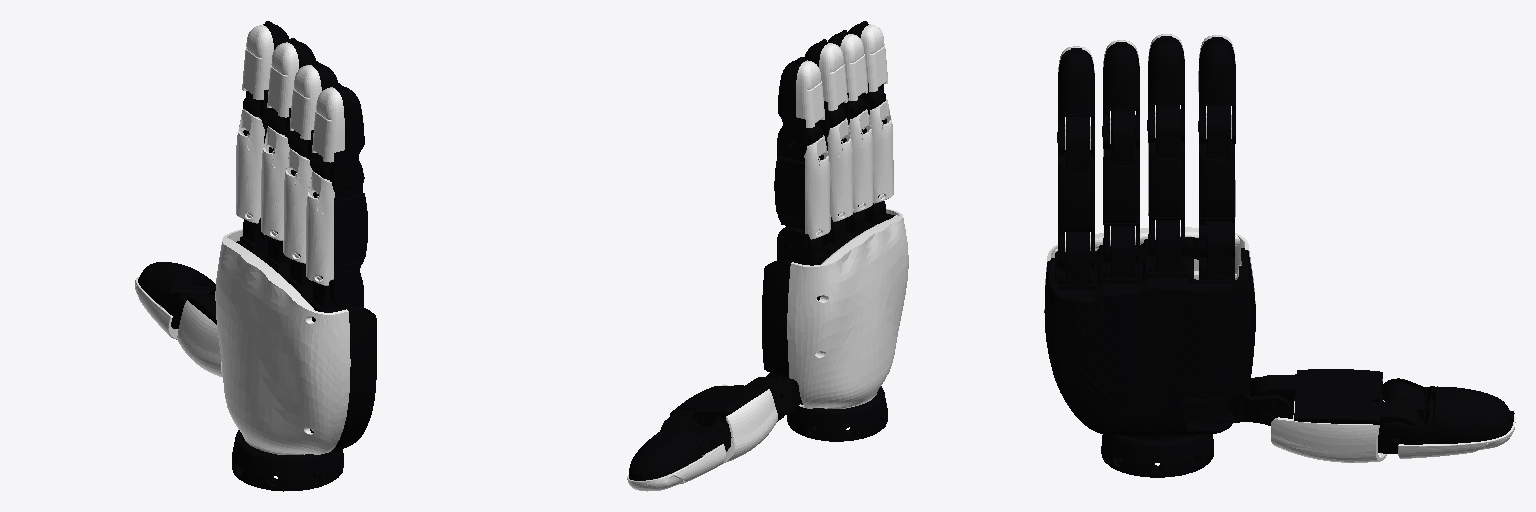
--- Facts derived from the render (not from the file) ---
The picture shows the robot from 3 angles, left to right: view 1: azimuth 30°, elevation 25°; view 2: azimuth 150°, elevation 25°; view 3: azimuth 270°, elevation 25°; orthographic projection.
Robot: xhand_right — 31 links, 30 joints (12 revolute, 18 fixed); root link base_link; default pose: every joint at zero.
Visible links, largest first — view 1: right_hand_back_link, right_hand_link, right_hand_pinky_link1, right_hand_pinkyback_link1, right_hand_index_rotaback_link1, right_hand_thumb_rota_link2, right_hand_midback_link1, right_hand_ringback_link1, right_hand_pinky_link2, right_hand_thumb_rotaback_link1, right_hand_pinkyback_link2, right_hand_index_rotaback_link2 (+6 smaller); view 2: right_hand_back_link, right_hand_link, right_hand_thumb_rota_link2, right_hand_thumb_rota_link1, right_hand_index_rota_link1, right_hand_index_rotaback_link1, right_hand_thumb_rotaback_link1, right_hand_midback_link1, right_hand_pinkyback_link1, right_hand_index_rota_link2, right_hand_ringback_link1, right_hand_index_rotaback_link2 (+6 smaller); view 3: right_hand_link, right_hand_thumb_rota_link1, right_hand_thumb_rota_link2, right_hand_ring_link1, right_hand_pinky_link1, right_hand_mid_link1, right_hand_thumb_rotaback_link1, right_hand_index_rota_link1, right_hand_ring_link2, right_hand_pinky_link2, right_hand_mid_link2, right_hand_index_rota_link2 (+4 smaller).
Link boxes in pixels (x1,y1,x2,y2): right_hand_back_link: (215,229,350,454); right_hand_link: (232,237,376,491); right_hand_pinky_link1: (313,155,367,308); right_hand_pinkyback_link1: (306,171,334,285); right_hand_index_rotaback_link1: (236,109,264,223); right_hand_thumb_rota_link2: (138,262,215,328); right_hand_midback_link1: (261,126,289,240); right_hand_ringback_link1: (283,148,312,263); right_hand_pinky_link2: (316,87,364,196); right_hand_thumb_rotaback_link1: (177,300,222,377); right_hand_pinkyback_link2: (312,87,344,162); right_hand_index_rotaback_link2: (242,25,273,99); right_hand_back_link: (787,209,908,408); right_hand_link: (762,201,894,441); right_hand_thumb_rota_link2: (629,422,730,480); right_hand_thumb_rota_link1: (660,377,784,447); right_hand_index_rota_link1: (774,123,823,229); right_hand_index_rotaback_link1: (804,135,830,239); right_hand_thumb_rotaback_link1: (722,384,777,463); right_hand_midback_link1: (827,118,853,221); right_hand_pinkyback_link1: (869,99,893,203); right_hand_index_rota_link2: (778,60,820,158); right_hand_ringback_link1: (849,109,873,212); right_hand_index_rotaback_link2: (796,60,824,127); right_hand_link: (1044,220,1255,477); right_hand_thumb_rota_link1: (1251,369,1423,453); right_hand_thumb_rota_link2: (1378,378,1512,451); right_hand_ring_link1: (1103,111,1139,263); right_hand_pinky_link1: (1058,117,1094,269); right_hand_mid_link1: (1148,105,1184,256); right_hand_thumb_rotaback_link1: (1271,379,1386,462); right_hand_index_rota_link1: (1199,106,1234,224); right_hand_ring_link2: (1102,43,1139,149); right_hand_pinky_link2: (1057,50,1094,155); right_hand_mid_link2: (1147,37,1184,142); right_hand_index_rota_link2: (1198,38,1235,143).
Size in the robot's own frame: 0.0641 by 0.2091 by 0.2078 metres.
30 mesh visuals loaded from 30 distinct referenced files (30 binary STL).

The robot description file, URDF, robot "xhand_right":
<?xml version="1.0" encoding="utf-8"?>
<!-- This URDF was automatically created by SolidWorks to URDF Exporter! Originally created by Stephen Brawner ([email redacted]) 
     Commit Version: 1.6.0-4-g7f85cfe  Build Version: 1.6.7995.38578
     For more information, please see http://wiki.ros.org/sw_urdf_exporter -->
<robot
  name="xhand_right">

  <link name="base_link"/>
  <joint name="base_joint" type="fixed">
    <parent link="base_link"/>
    <child link="right_hand_link"/>
    <origin xyz="0 0 0" rpy="3.14 0 1.57"/>
  </joint>
  <link
    name="right_hand_link">
    <inertial>
      <origin
        xyz="-0.00366836214548078 0.0100351220466308 -0.0582695185384578"
        rpy="0 0 0" />
      <mass
        value="0.53903004" />
      <inertia
        ixx="0.00046462"
        ixy="0.00000004"
        ixz="-0.00005128"
        iyy="0.00064214"
        iyz="0.00000217"
        izz="0.00027541" />
    </inertial>
    <visual>
      <origin
        xyz="0 0 0"
        rpy="0 0 0" />
      <geometry>
        <mesh
          filename="meshes/right_hand_link.STL" />
      </geometry>
      <material
        name="RAL_9005_Jet_Black">
        <color
          rgba="0.055 0.055 0.063 1.0" />
      </material>
    </visual>
    <collision>
      <origin
        xyz="0 0 0"
        rpy="0 0 0" />
      <geometry>
        <mesh
          filename="meshes/right_hand_link.STL" />
      </geometry>
    </collision>
  </link>
  <link
    name="right_hand_ee_link">
    <inertial>
      <origin
        xyz="2.48510213245214E-19 -8.08284973285247E-18 0"
        rpy="0 0 0" />
      <mass
        value="0.00000565" />
      <inertia
        ixx="0.00000000001"
        ixy="0.00000000001"
        ixz="0.00000000001"
        iyy="0.00000000001"
        iyz="0.00000000001"
        izz="0.00000000001" />
    </inertial>
    <visual>
      <origin
        xyz="0 0 0"
        rpy="0 0 0" />
      <geometry>
        <mesh
          filename="meshes/right_hand_ee_link.STL" />
      </geometry>
      <material
        name="RAL_9005_Jet_Black">
        <color
          rgba="0.055 0.055 0.063 1.0" />
      </material>
    </visual>
    <collision>
      <origin
        xyz="0 0 0"
        rpy="0 0 0" />
      <geometry>
        <mesh
          filename="meshes/right_hand_ee_link.STL" />
      </geometry>
    </collision>
  </link>
  <joint
    name="right_hand_ee_joint"
    type="fixed">
    <origin
      xyz="0 0 -0.065"
      rpy="0 0 0" />
    <parent
      link="right_hand_link" />
    <child
      link="right_hand_ee_link" />
    <axis
      xyz="0 0 0" />
    <dynamics
      damping="0"
      friction="0" />
  </joint>
  <link
    name="right_hand_back_link">
    <inertial>
      <origin
        xyz="-0.00149243508011096 -0.0140081556490721 0.000647100828228067"
        rpy="0 0 0" />
      <mass
        value="0.00000020" />
      <inertia
        ixx="0.00000000001"
        ixy="0.00000000001"
        ixz="0.00000000001"
        iyy="0.00000000001"
        iyz="0.00000000001"
        izz="0.00000000001" />
    </inertial>
    <visual>
      <origin
        xyz="0 0 0"
        rpy="0 0 0" />
      <geometry>
        <mesh
          filename="meshes/right_hand_back_link.STL" />
      </geometry>
      <material
        name="RAL_9003_Signal_White">
        <color
          rgba="0.941 0.941 0.941 1.0" />
      </material>
    </visual>
    <collision>
      <origin
        xyz="0 0 0"
        rpy="0 0 0" />
      <geometry>
        <mesh
          filename="meshes/right_hand_back_link.STL" />
      </geometry>
    </collision>
  </link>
  <joint
    name="right_hand_back_joint"
    type="fixed">
    <origin
      xyz="0 0 -0.065"
      rpy="0 0 0" />
    <parent
      link="right_hand_link" />
    <child
      link="right_hand_back_link" />
    <axis
      xyz="0 0 0" />
    <dynamics
      damping="0"
      friction="0" />
  </joint>
  <link
    name="right_hand_thumb_bend_link">
    <inertial>
      <origin
        xyz="0.0144358799903648 -0.00116534489100676 -5.40665183231849E-05"
        rpy="0 0 0" />
      <mass
        value="0.01174632" />
      <inertia
        ixx="0.00000062"
        ixy="-0.00000004"
        ixz="-0.00000007"
        iyy="0.0000016"
        iyz="0.00000000001"
        izz="0.00000162" />
    </inertial>
    <visual>
      <origin
        xyz="0 0 0"
        rpy="0 0 0" />
      <geometry>
        <mesh
          filename="meshes/right_hand_thumb_bend_link.STL" />
      </geometry>
      <material
        name="RAL_9005_Jet_Black">
        <color
          rgba="0.055 0.055 0.063 1.0" />
      </material>
    </visual>
    <collision>
      <origin
        xyz="0 0 0"
        rpy="0 0 0" />
      <geometry>
        <mesh
          filename="meshes/right_hand_thumb_bend_link.STL" />
      </geometry>
    </collision>
  </link>
  <joint
    name="right_hand_thumb_bend_joint"
    type="revolute">
    <origin
      xyz="0.0228 0.0095 -0.0305"
      rpy="0 0 0" />
    <parent
      link="right_hand_link" />
    <child
      link="right_hand_thumb_bend_link" />
    <axis
      xyz="0 0 1" />
    <limit
      lower="0"
      upper="1.832"
      effort="1.1"
      velocity="8.63" />
    <dynamics
      damping="0"
      friction="0" />
  </joint>
  <link
    name="right_hand_thumb_rota_link1">
    <inertial>
      <origin
        xyz="0.0287681482733488 -0.00036176529547633 -0.00133929681686046"
        rpy="0 0 0" />
      <mass
        value="0.13266642" />
      <inertia
        ixx="0.00001699"
        ixy="-0.00000791"
        ixz="-0.00000182"
        iyy="0.00003679"
        iyz="-0.00000196"
        izz="0.00004374" />
    </inertial>
    <visual>
      <origin
        xyz="0 0 0"
        rpy="0 0 0" />
      <geometry>
        <mesh
          filename="meshes/right_hand_thumb_rota_link1.STL" />
      </geometry>
      <material
        name="RAL_9005_Jet_Black">
        <color
          rgba="0.055 0.055 0.063 1.0" />
      </material>
    </visual>
    <collision>
      <origin
        xyz="0 0 0"
        rpy="0 0 0" />
      <geometry>
        <mesh
          filename="meshes/right_hand_thumb_rota_link1.STL" />
      </geometry>
    </collision>
  </link>
  <joint
    name="right_hand_thumb_rota_joint1"
    type="revolute">
    <origin
      xyz="0.028599 0.0083177 0.00178"
      rpy="0.2618 0 0.0407" />
    <parent
      link="right_hand_thumb_bend_link" />
    <child
      link="right_hand_thumb_rota_link1" />
    <axis
      xyz="0 1 0" />
    <limit
      lower="-0.698"
      upper="1.745"
      effort="1.1"
      velocity="8.63" />
    <dynamics
      damping="0"
      friction="0" />
  </joint>
  <link
    name="right_hand_thumb_rotaback_link1">
    <inertial>
      <origin
        xyz="-0.0296289408411864 0.0014334239435258 0.00759117850867843"
        rpy="0 0 0" />
      <mass
        value="0.00000006" />
      <inertia
        ixx="0.00000000001"
        ixy="0.00000000001"
        ixz="0.00000000001"
        iyy="0.00000000001"
        iyz="0.00000000001"
        izz="0.00000000001" />
    </inertial>
    <visual>
      <origin
        xyz="0 0 0"
        rpy="0 0 0" />
      <geometry>
        <mesh
          filename="meshes/right_hand_thumb_rotaback_link1.STL" />
      </geometry>
      <material
        name="RAL_9003_Signal_White">
        <color
          rgba="0.941 0.941 0.941 1.0" />
      </material>
    </visual>
    <collision>
      <origin
        xyz="0 0 0"
        rpy="0 0 0" />
      <geometry>
        <mesh
          filename="meshes/right_hand_thumb_rotaback_link1.STL" />
      </geometry>
    </collision>
  </link>
  <joint
    name="right_hand_thumb_rotaback_joint1"
    type="fixed">
    <origin
      xyz="0.0553000000000007 0 0"
      rpy="0 0 0" />
    <parent
      link="right_hand_thumb_rota_link1" />
    <child
      link="right_hand_thumb_rotaback_link1" />
    <axis
      xyz="0 0 0" />
    <dynamics
      damping="0"
      friction="0" />
  </joint>
  <link
    name="right_hand_thumb_rota_link2">
    <inertial>
      <origin
        xyz="0.0225340009927979 -0.000881600697645881 -0.000614548321208525"
        rpy="0 0 0" />
      <mass
        value="0.04336091" />
      <inertia
        ixx="0.00000388"
        ixy="0.00000000001"
        ixz="0.00000015"
        iyy="0.00000902"
        iyz="-0.00000042"
        izz="0.00001046" />
    </inertial>
    <visual>
      <origin
        xyz="0 0 0"
        rpy="0 0 0" />
      <geometry>
        <mesh
          filename="meshes/right_hand_thumb_rota_link2.STL" />
      </geometry>
      <material
        name="RAL_9005_Jet_Black">
        <color
          rgba="0.055 0.055 0.063 1.0" />
      </material>
    </visual>
    <collision>
      <origin
        xyz="0 0 0"
        rpy="0 0 0" />
      <geometry>
        <mesh
          filename="meshes/right_hand_thumb_rota_link2.STL" />
      </geometry>
    </collision>
  </link>
  <joint
    name="right_hand_thumb_rota_joint2"
    type="revolute">
    <origin
      xyz="0.0553 0 0"
      rpy="0 0 0" />
    <parent
      link="right_hand_thumb_rota_link1" />
    <child
      link="right_hand_thumb_rota_link2" />
    <axis
      xyz="0 1 0" />
    <limit
      lower="0"
      upper="1.745"
      effort="0.4"
      velocity="14.38" />
    <dynamics
      damping="0"
      friction="0" />
  </joint>
  <link
    name="right_hand_thumb_rotaback_link2">
    <inertial>
      <origin
        xyz="-0.0258393463672562 -0.000532639688528967 0.00924631171368789"
        rpy="0 0 0" />
      <mass
        value="0.00000004" />
      <inertia
        ixx="0.00000000001"
        ixy="0.00000000001"
        ixz="0.00000000001"
        iyy="0.00000000001"
        iyz="0.00000000001"
        izz="0.00000000001" />
    </inertial>
    <visual>
      <origin
        xyz="0 0 0"
        rpy="0 0 0" />
      <geometry>
        <mesh
          filename="meshes/right_hand_thumb_rotaback_link2.STL" />
      </geometry>
      <material
        name="RAL_9003_Signal_White">
        <color
          rgba="0.941 0.941 0.941 1.0" />
      </material>
    </visual>
    <collision>
      <origin
        xyz="0 0 0"
        rpy="0 0 0" />
      <geometry>
        <mesh
          filename="meshes/right_hand_thumb_rotaback_link2.STL" />
      </geometry>
    </collision>
  </link>
  <joint
    name="right_hand_thumb_rotaback_joint2"
    type="fixed">
    <origin
      xyz="0.0502276499414862 0 0"
      rpy="0 0 0" />
    <parent
      link="right_hand_thumb_rota_link2" />
    <child
      link="right_hand_thumb_rotaback_link2" />
    <axis
      xyz="0 0 0" />
    <dynamics
      damping="0"
      friction="0" />
  </joint>
  <link
    name="right_hand_thumb_rota_tip">
    <inertial>
      <origin
        xyz="8.32667268468867E-17 -8.67361737988404E-19 -5.55111512312578E-17"
        rpy="0 0 0" />
      <mass
        value="0.00000565" />
      <inertia
        ixx="0.00000000001"
        ixy="0.00000000001"
        ixz="0.00000000001"
        iyy="0.00000000001"
        iyz="0.00000000001"
        izz="0.00000000001" />
    </inertial>
    <visual>
      <origin
        xyz="0 0 0"
        rpy="0 0 0" />
      <geometry>
        <mesh
          filename="meshes/right_hand_thumb_rota_tip.STL" />
      </geometry>
      <material
        name="RAL_9005_Jet_Black">
        <color
          rgba="0.055 0.055 0.063 1.0" />
      </material>
    </visual>
    <collision>
      <origin
        xyz="0 0 0"
        rpy="0 0 0" />
      <geometry>
        <mesh
          filename="meshes/right_hand_thumb_rota_tip.STL" />
      </geometry>
    </collision>
  </link>
  <joint
    name="right_hand_thumb_rota_joint3"
    type="fixed">
    <origin
      xyz="0.0502276499414862 0 0"
      rpy="0 0 0" />
    <parent
      link="right_hand_thumb_rota_link2" />
    <child
      link="right_hand_thumb_rota_tip" />
    <axis
      xyz="0 0 0" />
    <dynamics
      damping="0"
      friction="0" />
  </joint>
  <link
    name="right_hand_index_bend_link">
    <inertial>
      <origin
        xyz="0.000118997558760787 -0.000715851164577269 -0.0111903014853532"
        rpy="0 0 0" />
      <mass
        value="0.06910833" />
      <inertia
        ixx="0.0000174"
        ixy="0.00000001"
        ixz="0.00000014"
        iyy="0.00001677"
        iyz="-0.00000012"
        izz="0.00000345" />
    </inertial>
    <visual>
      <origin
        xyz="0 0 0"
        rpy="0 0 0" />
      <geometry>
        <mesh
          filename="meshes/right_hand_index_bend_link.STL" />
      </geometry>
      <material
        name="RAL_9005_Jet_Black">
        <color
          rgba="0.055 0.055 0.063 1.0" />
      </material>
    </visual>
    <collision>
      <origin
        xyz="0 0 0"
        rpy="0 0 0" />
      <geometry>
        <mesh
          filename="meshes/right_hand_index_bend_link.STL" />
      </geometry>
    </collision>
  </link>
  <joint
    name="right_hand_index_bend_joint"
    type="revolute">
    <origin
      xyz="0.0265 0.0065 -0.0899"
      rpy="0 0 0" />
    <parent
      link="right_hand_link" />
    <child
      link="right_hand_index_bend_link" />
    <axis
      xyz="0 -1 0" />
    <limit
      lower="-0.174"
      upper="0.174"
      effort="0.4"
      velocity="14.38" />
    <dynamics
      damping="0"
      friction="0" />
  </joint>
  <link
    name="right_hand_index_rota_link1">
    <inertial>
      <origin
        xyz="0.000133008106573459 0.000632930512954057 -0.0355868719939061"
        rpy="0 0 0" />
      <mass
        value="0.06298297" />
      <inertia
        ixx="0.00001738"
        ixy="0.00000000001"
        ixz="0.00000028"
        iyy="0.00001686"
        iyz="0.00000019"
        izz="0.0000032" />
    </inertial>
    <visual>
      <origin
        xyz="0 0 0"
        rpy="0 0 0" />
      <geometry>
        <mesh
          filename="meshes/right_hand_index_rota_link1.STL" />
      </geometry>
      <material
        name="RAL_9005_Jet_Black">
        <color
          rgba="0.055 0.055 0.063 1" />
      </material>
    </visual>
    <collision>
      <origin
        xyz="0 0 0"
        rpy="0 0 0" />
      <geometry>
        <mesh
          filename="meshes/right_hand_index_rota_link1.STL" />
      </geometry>
    </collision>
  </link>
  <joint
    name="right_hand_index_joint1"
    type="revolute">
    <origin
      xyz="0 0 -0.0178"
      rpy="0 0 0" />
    <parent
      link="right_hand_index_bend_link" />
    <child
      link="right_hand_index_rota_link1" />
    <axis
      xyz="1 0 0" />
    <limit
      lower="0"
      upper="1.919"
      effort="1.1"
      velocity="8.63" />
    <dynamics
      damping="0"
      friction="0" />
  </joint>
  <link
    name="right_hand_index_rotaback_link1">
    <inertial>
      <origin
        xyz="-0.000148035114615745 -0.0115948040516035 0.0241234077593065"
        rpy="0 0 0" />
      <mass
        value="0.00000002" />
      <inertia
        ixx="0.00000000001"
        ixy="0.00000000001"
        ixz="0.00000000001"
        iyy="0.00000000001"
        iyz="0.00000000001"
        izz="0.00000000001" />
    </inertial>
    <visual>
      <origin
        xyz="0 0 0"
        rpy="0 0 0" />
      <geometry>
        <mesh
          filename="meshes/right_hand_index_rotaback_link1.STL" />
      </geometry>
      <material
        name="RAL_9003_Signal_White">
        <color
          rgba="0.941 0.941 0.941 1" />
      </material>
    </visual>
    <collision>
      <origin
        xyz="0 0 0"
        rpy="0 0 0" />
      <geometry>
        <mesh
          filename="meshes/right_hand_index_rotaback_link1.STL" />
      </geometry>
    </collision>
  </link>
  <joint
    name="right_hand_index_rotaback_joint1"
    type="fixed">
    <origin
      xyz="0 0 -0.0557999999999955"
      rpy="0 0 0" />
    <parent
      link="right_hand_index_rota_link1" />
    <child
      link="right_hand_index_rotaback_link1" />
    <axis
      xyz="0 0 0" />
    <dynamics
      damping="0"
      friction="0" />
  </joint>
  <link
    name="right_hand_index_rota_link2">
    <inertial>
      <origin
        xyz="-0.000248361661985549 0.00119905190206764 -0.0213789854478675"
        rpy="0 0 0" />
      <mass
        value="0.01588724" />
      <inertia
        ixx="0.00000277"
        ixy="0.00000000001"
        ixz="0.00000012"
        iyy="0.00000283"
        iyz="0.00000007"
        izz="0.00000085" />
    </inertial>
    <visual>
      <origin
        xyz="0 0 0"
        rpy="0 0 0" />
      <geometry>
        <mesh
          filename="meshes/right_hand_index_rota_link2.STL" />
      </geometry>
      <material
        name="RAL_9005_Jet_Black">
        <color
          rgba="0.055 0.055 0.063 1" />
      </material>
    </visual>
    <collision>
      <origin
        xyz="0 0 0"
        rpy="0 0 0" />
      <geometry>
        <mesh
          filename="meshes/right_hand_index_rota_link2.STL" />
      </geometry>
    </collision>
  </link>
  <joint
    name="right_hand_index_joint2"
    type="revolute">
    <origin
      xyz="0 0 -0.0558"
      rpy="0 0 0" />
    <parent
      link="right_hand_index_rota_link1" />
    <child
      link="right_hand_index_rota_link2" />
    <axis
      xyz="1 0 0" />
    <limit
      lower="0"
      upper="1.919"
      effort="0.4"
      velocity="14.38" />
    <dynamics
      damping="0"
      friction="0" />
  </joint>
  <link
    name="right_hand_index_rotaback_link2">
    <inertial>
      <origin
        xyz="0.00015795043863779 -0.00758843721876498 0.017665521085611"
        rpy="0 0 0" />
      <mass
        value="0.00000001" />
      <inertia
        ixx="0.00000000001"
        ixy="0.00000000001"
        ixz="0.00000000001"
        iyy="0.00000000001"
        iyz="0.00000000001"
        izz="0.00000000001" />
    </inertial>
    <visual>
      <origin
        xyz="0 0 0"
        rpy="0 0 0" />
      <geometry>
        <mesh
          filename="meshes/right_hand_index_rotaback_link2.STL" />
      </geometry>
      <material
        name="RAL_9003_Signal_White">
        <color
          rgba="0.941 0.941 0.941 1" />
      </material>
    </visual>
    <collision>
      <origin
        xyz="0 0 0"
        rpy="0 0 0" />
      <geometry>
        <mesh
          filename="meshes/right_hand_index_rotaback_link2.STL" />
      </geometry>
    </collision>
  </link>
  <joint
    name="right_hand_index_rotaback_joint2"
    type="fixed">
    <origin
      xyz="0 0 -0.0422482924089416"
      rpy="0 0 0" />
    <parent
      link="right_hand_index_rota_link2" />
    <child
      link="right_hand_index_rotaback_link2" />
    <axis
      xyz="0 0 0" />
    <dynamics
      damping="0"
      friction="0" />
  </joint>
  <link
    name="right_hand_index_rota_tip">
    <inertial>
      <origin
        xyz="3.70675712346724E-14 8.65627014512427E-16 -8.32667268468867E-16"
        rpy="0 0 0" />
      <mass
        value="0.00000565" />
      <inertia
        ixx="0.00000000001"
        ixy="0.00000000001"
        ixz="0.00000000001"
        iyy="0.00000000001"
        iyz="0.00000000001"
        izz="0.00000000001" />
    </inertial>
    <visual>
      <origin
        xyz="0 0 0"
        rpy="0 0 0" />
      <geometry>
        <mesh
          filename="meshes/right_hand_index_rota_tip.STL" />
      </geometry>
      <material
        name="RAL_9005_Jet_Black">
        <color
          rgba="0.055 0.055 0.063 1" />
      </material>
    </visual>
    <collision>
      <origin
        xyz="0 0 0"
        rpy="0 0 0" />
      <geometry>
        <mesh
          filename="meshes/right_hand_index_rota_tip.STL" />
      </geometry>
    </collision>
  </link>
  <joint
    name="right_hand_index_rota_joint3"
    type="fixed">
    <origin
      xyz="0 0 -0.0422482924089416"
      rpy="0 0 0" />
    <parent
      link="right_hand_index_rota_link2" />
    <child
      link="right_hand_index_rota_tip" />
    <axis
      xyz="0 0 0" />
    <dynamics
      damping="0"
      friction="0" />
  </joint>
  <link
    name="right_hand_mid_link1">
    <inertial>
      <origin
        xyz="3.58049083993136E-05 0.000530417592106078 -0.0332784671157236"
        rpy="0 0 0" />
      <mass
        value="0.06298297" />
      <inertia
        ixx="0.00001738"
        ixy="0.00000000001"
        ixz="0.00000028"
        iyy="0.00001686"
        iyz="0.00000019"
        izz="0.0000032" />
    </inertial>
    <visual>
      <origin
        xyz="0 0 0"
        rpy="0 0 0" />
      <geometry>
        <mesh
          filename="meshes/right_hand_mid_link1.STL" />
      </geometry>
      <material
        name="RAL_9005_Jet_Black">
        <color
          rgba="0.055 0.055 0.063 1" />
      </material>
    </visual>
    <collision>
      <origin
        xyz="0 0 0"
        rpy="0 0 0" />
      <geometry>
        <mesh
          filename="meshes/right_hand_mid_link1.STL" />
      </geometry>
    </collision>
  </link>
  <joint
    name="right_hand_mid_joint1"
    type="revolute">
    <origin
      xyz="0.004 0.0065 -0.1082"
      rpy="0 0 0" />
    <parent
      link="right_hand_link" />
    <child
      link="right_hand_mid_link1" />
    <axis
      xyz="1 0 0" />
    <limit
      lower="0"
      upper="1.919"
      effort="1.1"
      velocity="8.63" />
    <dynamics
      damping="0"
      friction="0" />
  </joint>
  <link
    name="right_hand_midback_link1">
    <inertial>
      <origin
        xyz="-0.000148035028410428 -0.0115948040189855 0.0241234086343709"
        rpy="0 0 0" />
      <mass
        value="0.00000002" />
      <inertia
        ixx="0.00000000001"
        ixy="0.00000000001"
        ixz="0.00000000001"
        iyy="0.00000000001"
        iyz="0.00000000001"
        izz="0.00000000001" />
    </inertial>
    <visual>
      <origin
        xyz="0 0 0"
        rpy="0 0 0" />
      <geometry>
        <mesh
          filename="meshes/right_hand_midback_link1.STL" />
      </geometry>
      <material
        name="RAL_9003_Signal_White">
        <color
          rgba="0.941 0.941 0.941 1" />
      </material>
    </visual>
    <collision>
      <origin
        xyz="0 0 0"
        rpy="0 0 0" />
      <geometry>
        <mesh
          filename="meshes/right_hand_midback_link1.STL" />
      </geometry>
    </collision>
  </link>
  <joint
    name="right_hand_midback_joint1"
    type="fixed">
    <origin
      xyz="0 0 -0.0558"
      rpy="0 0 0" />
    <parent
      link="right_hand_mid_link1" />
    <child
      link="right_hand_midback_link1" />
    <axis
      xyz="0 0 0" />
    <dynamics
      damping="0"
      friction="0" />
  </joint>
  <link
    name="right_hand_mid_link2">
    <inertial>
      <origin
        xyz="-0.000248364601983051 0.00119905076177324 -0.0213789908421273"
        rpy="0 0 0" />
      <mass
        value="0.01624108" />
      <inertia
        ixx="0.00000281"
        ixy="0.00000000001"
        ixz="0.00000012"
        iyy="0.00000287"
        iyz="0.00000007"
        izz="0.00000086" />
    </inertial>
    <visual>
      <origin
        xyz="0 0 0"
        rpy="0 0 0" />
      <geometry>
        <mesh
          filename="meshes/right_hand_mid_link2.STL" />
      </geometry>
      <material
        name="RAL_9005_Jet_Black">
        <color
          rgba="0.055 0.055 0.063 1" />
      </material>
    </visual>
    <collision>
      <origin
        xyz="0 0 0"
        rpy="0 0 0" />
      <geometry>
        <mesh
          filename="meshes/right_hand_mid_link2.STL" />
      </geometry>
    </collision>
  </link>
  <joint
    name="right_hand_mid_joint2"
    type="revolute">
    <origin
      xyz="0 0 -0.0558"
      rpy="0 0 0" />
    <parent
      link="right_hand_mid_link1" />
    <child
      link="right_hand_mid_link2" />
    <axis
      xyz="1 0 0" />
    <limit
      lower="0"
      upper="1.919"
      effort="0.4"
      velocity="14.38" />
    <dynamics
      damping="0"
      friction="0" />
  </joint>
  <link
    name="right_hand_midback_link2">
    <inertial>
      <origin
        xyz="0.000157950438652398 -0.00758843721877396 0.0176655210856773"
        rpy="0 0 0" />
      <mass
        value="0.00000001" />
      <inertia
        ixx="0.00000000001"
        ixy="0.00000000001"
        ixz="0.00000000001"
        iyy="0.00000000001"
        iyz="0.00000000001"
        izz="0.00000000001" />
    </inertial>
    <visual>
      <origin
        xyz="0 0 0"
        rpy="0 0 0" />
      <geometry>
        <mesh
          filename="meshes/right_hand_midback_link2.STL" />
      </geometry>
      <material
        name="RAL_9003_Signal_White">
        <color
          rgba="0.941 0.941 0.941 1" />
      </material>
    </visual>
    <collision>
      <origin
        xyz="0 0 0"
        rpy="0 0 0" />
      <geometry>
        <mesh
          filename="meshes/right_hand_midback_link2.STL" />
      </geometry>
    </collision>
  </link>
  <joint
    name="right_hand_midback_joint2"
    type="fixed">
    <origin
      xyz="0 0 -0.042248"
      rpy="0 0 0" />
    <parent
      link="right_hand_mid_link2" />
    <child
      link="right_hand_midback_link2" />
    <axis
      xyz="0 0 0" />
    <dynamics
      damping="0"
      friction="0" />
  </joint>
  <link
    name="right_hand_mid_tip">
    <inertial>
      <origin
        xyz="5.97126514900737E-14 5.86336534880161E-16 -8.32667268468867E-16"
        rpy="0 0 0" />
      <mass
        value="0.00000565" />
      <inertia
        ixx="0.00000000001"
        ixy="0.00000000001"
        ixz="0.00000000001"
        iyy="0.00000000001"
        iyz="0.00000000001"
        izz="0.00000000001" />
    </inertial>
    <visual>
      <origin
        xyz="0 0 0"
        rpy="0 0 0" />
      <geometry>
        <mesh
          filename="meshes/right_hand_mid_tip.STL" />
      </geometry>
      <material
        name="RAL_9005_Jet_Black">
        <color
          rgba="0.055 0.055 0.063 1" />
      </material>
    </visual>
    <collision>
      <origin
        xyz="0 0 0"
        rpy="0 0 0" />
      <geometry>
        <mesh
          filename="meshes/right_hand_mid_tip.STL" />
      </geometry>
    </collision>
  </link>
  <joint
    name="right_hand_mid_joint3"
    type="fixed">
    <origin
      xyz="0 0 -0.0422482924089417"
      rpy="0 0 0" />
    <parent
      link="right_hand_mid_link2" />
    <child
      link="right_hand_mid_tip" />
    <axis
      xyz="0 0 0" />
    <dynamics
      damping="0"
      friction="0" />
  </joint>
  <link
    name="right_hand_ring_link1">
    <inertial>
      <origin
        xyz="3.58049083615322E-05 0.000530417592105594 -0.0332784671157224"
        rpy="0 0 0" />
      <mass
        value="0.06298297" />
      <inertia
        ixx="0.00001738"
        ixy="0.00000000001"
        ixz="0.00000028"
        iyy="0.00001686"
        iyz="0.00000019"
        izz="0.0000032" />
    </inertial>
    <visual>
      <origin
        xyz="0 0 0"
        rpy="0 0 0" />
      <geometry>
        <mesh
          filename="meshes/right_hand_ring_link1.STL" />
      </geometry>
      <material
        name="RAL_9005_Jet_Black">
        <color
          rgba="0.055 0.055 0.063 1" />
      </material>
    </visual>
    <collision>
      <origin
        xyz="0 0 0"
        rpy="0 0 0" />
      <geometry>
        <mesh
          filename="meshes/right_hand_ring_link1.STL" />
      </geometry>
    </collision>
  </link>
  <joint
    name="right_hand_ring_joint1"
    type="revolute">
    <origin
      xyz="-0.016 0.0065 -0.1052"
      rpy="0 0 0" />
    <parent
      link="right_hand_link" />
    <child
      link="right_hand_ring_link1" />
    <axis
      xyz="1 0 0" />
    <limit
      lower="0"
      upper="1.919"
      effort="1.1"
      velocity="8.63" />
    <dynamics
      damping="0"
      friction="0" />
  </joint>
  <link
    name="right_hand_ringback_link1">
    <inertial>
      <origin
        xyz="-0.000148033469798928 -0.0115948018402145 0.0241234223266379"
        rpy="0 0 0" />
      <mass
        value="0.00000002" />
      <inertia
        ixx="0.00000000001"
        ixy="0.00000000001"
        ixz="0.00000000001"
        iyy="0.00000000001"
        iyz="0.00000000001"
        izz="0.00000000001" />
    </inertial>
    <visual>
      <origin
        xyz="0 0 0"
        rpy="0 0 0" />
      <geometry>
        <mesh
          filename="meshes/right_hand_ringback_link1.STL" />
      </geometry>
      <material
        name="RAL_9003_Signal_White">
        <color
          rgba="0.941 0.941 0.941 1" />
      </material>
    </visual>
    <collision>
      <origin
        xyz="0 0 0"
        rpy="0 0 0" />
      <geometry>
        <mesh
          filename="meshes/right_hand_ringback_link1.STL" />
      </geometry>
    </collision>
  </link>
  <joint
    name="right_hand_ringback_joint1"
    type="fixed">
    <origin
      xyz="0 0 -0.0558000000000002"
      rpy="0 0 0" />
    <parent
      link="right_hand_ring_link1" />
    <child
      link="right_hand_ringback_link1" />
    <axis
      xyz="0 0 0" />
    <dynamics
      damping="0"
      friction="0" />
  </joint>
  <link
    name="right_hand_ring_link2">
    <inertial>
      <origin
        xyz="-0.000248364602035429 0.00119905076177346 -0.0213789908421257"
        rpy="0 0 0" />
      <mass
        value="0.01624108" />
      <inertia
        ixx="0.00000281"
        ixy="0.00000000001"
        ixz="0.00000012"
        iyy="0.00000287"
        iyz="0.00000007"
        izz="0.00000086" />
    </inertial>
    <visual>
      <origin
        xyz="0 0 0"
        rpy="0 0 0" />
      <geometry>
        <mesh
          filename="meshes/right_hand_ring_link2.STL" />
      </geometry>
      <material
        name="RAL_9005_Jet_Black">
        <color
          rgba="0.055 0.055 0.063 1" />
      </material>
    </visual>
    <collision>
      <origin
        xyz="0 0 0"
        rpy="0 0 0" />
      <geometry>
        <mesh
          filename="meshes/right_hand_ring_link2.STL" />
      </geometry>
    </collision>
  </link>
  <joint
    name="right_hand_ring_joint2"
    type="revolute">
    <origin
      xyz="0 0 -0.0558"
      rpy="0 0 0" />
    <parent
      link="right_hand_ring_link1" />
    <child
      link="right_hand_ring_link2" />
    <axis
      xyz="1 0 0" />
    <limit
      lower="0"
      upper="1.919"
      effort="0.4"
      velocity="14.38" />
    <dynamics
      damping="0"
      friction="0" />
  </joint>
  <link
    name="right_hand_ringback_link2">
    <inertial>
      <origin
        xyz="0.000157950438638532 -0.00758843721878611 0.0176655210858899"
        rpy="0 0 0" />
      <mass
        value="0.00000001" />
      <inertia
        ixx="0.00000000001"
        ixy="0.00000000001"
        ixz="0.00000000001"
        iyy="0.00000000001"
        iyz="0.00000000001"
        izz="0.00000000001" />
    </inertial>
    <visual>
      <origin
        xyz="0 0 0"
        rpy="0 0 0" />
      <geometry>
        <mesh
          filename="meshes/right_hand_ringback_link2.STL" />
      </geometry>
      <material
        name="RAL_9003_Signal_White">
        <color
          rgba="0.941 0.941 0.941 1" />
      </material>
    </visual>
    <collision>
      <origin
        xyz="0 0 0"
        rpy="0 0 0" />
      <geometry>
        <mesh
          filename="meshes/right_hand_ringback_link2.STL" />
      </geometry>
    </collision>
  </link>
  <joint
    name="right_hand_ringback_joint2"
    type="fixed">
    <origin
      xyz="0 0 -0.0422482924089403"
      rpy="0 0 0" />
    <parent
      link="right_hand_ring_link2" />
    <child
      link="right_hand_ringback_link2" />
    <axis
      xyz="0 0 0" />
    <dynamics
      damping="0"
      friction="0" />
  </joint>
  <link
    name="right_hand_ring_tip">
    <inertial>
      <origin
        xyz="1.22818422099158E-15 1.69135538907739E-16 0"
        rpy="0 0 0" />
      <mass
        value="0.00000565" />
      <inertia
        ixx="0.00000000001"
        ixy="0.00000000001"
        ixz="0.00000000001"
        iyy="0.00000000001"
        iyz="0.00000000001"
        izz="0.00000000001" />
    </inertial>
    <visual>
      <origin
        xyz="0 0 0"
        rpy="0 0 0" />
      <geometry>
        <mesh
          filename="meshes/right_hand_ring_tip.STL" />
      </geometry>
      <material
        name="RAL_9005_Jet_Black">
        <color
          rgba="0.055 0.055 0.063 1" />
      </material>
    </visual>
    <collision>
      <origin
        xyz="0 0 0"
        rpy="0 0 0" />
      <geometry>
        <mesh
          filename="meshes/right_hand_ring_tip.STL" />
      </geometry>
    </collision>
  </link>
  <joint
    name="right_hand_ring_joint3"
    type="fixed">
    <origin
      xyz="0 0 -0.0422482924089403"
      rpy="0 0 0" />
    <parent
      link="right_hand_ring_link2" />
    <child
      link="right_hand_ring_tip" />
    <axis
      xyz="0 0 0" />
    <dynamics
      damping="0"
      friction="0" />
  </joint>
  <link
    name="right_hand_pinky_link1">
    <inertial>
      <origin
        xyz="3.58049083611298E-05 0.000530417592105422 -0.0332784671157224"
        rpy="0 0 0" />
      <mass
        value="0.06298297" />
      <inertia
        ixx="0.00001738"
        ixy="0.00000000001"
        ixz="0.00000028"
        iyy="0.00001686"
        iyz="0.00000019"
        izz="0.0000032" />
    </inertial>
    <visual>
      <origin
        xyz="0 0 0"
        rpy="0 0 0" />
      <geometry>
        <mesh
          filename="meshes/right_hand_pinky_link1.STL" />
      </geometry>
      <material
        name="RAL_9005_Jet_Black">
        <color
          rgba="0.055 0.055 0.063 1" />
      </material>
    </visual>
    <collision>
      <origin
        xyz="0 0 0"
        rpy="0 0 0" />
      <geometry>
        <mesh
          filename="meshes/right_hand_pinky_link1.STL" />
      </geometry>
    </collision>
  </link>
  <joint
    name="right_hand_pinky_joint1"
    type="revolute">
    <origin
      xyz="-0.036 0.0065 -0.1022"
      rpy="0 0 0" />
    <parent
      link="right_hand_link" />
    <child
      link="right_hand_pinky_link1" />
    <axis
      xyz="1 0 0" />
    <limit
      lower="0"
      upper="1.919"
      effort="1.1"
      velocity="8.63" />
    <dynamics
      damping="0"
      friction="0" />
  </joint>
  <link
    name="right_hand_pinkyback_link1">
    <inertial>
      <origin
        xyz="-0.000148034891232163 -0.0115948044185708 0.0241234089219646"
        rpy="0 0 0" />
      <mass
        value="0.00000002" />
      <inertia
        ixx="0.00000000001"
        ixy="0.00000000001"
        ixz="0.00000000001"
        iyy="0.00000000001"
        iyz="0.00000000001"
        izz="0.00000000001" />
    </inertial>
    <visual>
      <origin
        xyz="0 0 0"
        rpy="0 0 0" />
      <geometry>
        <mesh
          filename="meshes/right_hand_pinkyback_link1.STL" />
      </geometry>
      <material
        name="RAL_9003_Signal_White">
        <color
          rgba="0.941 0.941 0.941 1" />
      </material>
    </visual>
    <collision>
      <origin
        xyz="0 0 0"
        rpy="0 0 0" />
      <geometry>
        <mesh
          filename="meshes/right_hand_pinkyback_link1.STL" />
      </geometry>
    </collision>
  </link>
  <joint
    name="right_hand_pinkyback_joint1"
    type="fixed">
    <origin
      xyz="0 0 -0.0558000000000001"
      rpy="0 0 0" />
    <parent
      link="right_hand_pinky_link1" />
    <child
      link="right_hand_pinkyback_link1" />
    <axis
      xyz="0 0 0" />
    <dynamics
      damping="0"
      friction="0" />
  </joint>
  <link
    name="right_hand_pinky_link2">
    <inertial>
      <origin
        xyz="-0.000248361662015334 0.0011990519020671 -0.0213789854478658"
        rpy="0 0 0" />
      <mass
        value="0.01624108" />
      <inertia
        ixx="0.00000281"
        ixy="0.00000000001"
        ixz="0.00000012"
        iyy="0.00000287"
        iyz="0.00000007"
        izz="0.00000086" />
    </inertial>
    <visual>
      <origin
        xyz="0 0 0"
        rpy="0 0 0" />
      <geometry>
        <mesh
          filename="meshes/right_hand_pinky_link2.STL" />
      </geometry>
      <material
        name="RAL_9005_Jet_Black">
        <color
          rgba="0.055 0.055 0.063 1" />
      </material>
    </visual>
    <collision>
      <origin
        xyz="0 0 0"
        rpy="0 0 0" />
      <geometry>
        <mesh
          filename="meshes/right_hand_pinky_link2.STL" />
      </geometry>
    </collision>
  </link>
  <joint
    name="right_hand_pinky_joint2"
    type="revolute">
    <origin
      xyz="0 0 -0.0558"
      rpy="0 0 0" />
    <parent
      link="right_hand_pinky_link1" />
    <child
      link="right_hand_pinky_link2" />
    <axis
      xyz="1 0 0" />
    <limit
      lower="0"
      upper="1.919"
      effort="1.4"
      velocity="14.38" />
    <dynamics
      damping="0"
      friction="0" />
  </joint>
  <link
    name="right_hand_pinkyback_link2">
    <inertial>
      <origin
        xyz="0.00015795043861809 -0.00758843721877113 0.0176655210856609"
        rpy="0 0 0" />
      <mass
        value="0.00000001" />
      <inertia
        ixx="0.00000000001"
        ixy="0.00000000001"
        ixz="0.00000000001"
        iyy="0.00000000001"
        iyz="0.00000000001"
        izz="0.00000000001" />
    </inertial>
    <visual>
      <origin
        xyz="0 0 0"
        rpy="0 0 0" />
      <geometry>
        <mesh
          filename="meshes/right_hand_pinkyback_link2.STL" />
      </geometry>
      <material
        name="RAL_9003_Signal_White">
        <color
          rgba="0.941 0.941 0.941 1" />
      </material>
    </visual>
    <collision>
      <origin
        xyz="0 0 0"
        rpy="0 0 0" />
      <geometry>
        <mesh
          filename="meshes/right_hand_pinkyback_link2.STL" />
      </geometry>
    </collision>
  </link>
  <joint
    name="right_hand_pinkyback_joint2"
    type="fixed">
    <origin
      xyz="0 0 -0.0422482924089404"
      rpy="0 0 0" />
    <parent
      link="right_hand_pinky_link2" />
    <child
      link="right_hand_pinkyback_link2" />
    <axis
      xyz="0 0 0" />
    <dynamics
      damping="0"
      friction="0" />
  </joint>
  <link
    name="right_hand_pinky_tip">
    <inertial>
      <origin
        xyz="6.17561557447743E-16 8.67361737988404E-18 0"
        rpy="0 0 0" />
      <mass
        value="0.00000565" />
      <inertia
        ixx="0.00000000001"
        ixy="0.00000000001"
        ixz="0.00000000001"
        iyy="0.00000000001"
        iyz="0.00000000001"
        izz="0.00000000001" />
    </inertial>
    <visual>
      <origin
        xyz="0 0 0"
        rpy="0 0 0" />
      <geometry>
        <mesh
          filename="meshes/right_hand_pinky_tip.STL" />
      </geometry>
      <material
        name="RAL_9005_Jet_Black">
        <color
          rgba="0.055 0.055 0.063 1" />
      </material>
    </visual>
    <collision>
      <origin
        xyz="0 0 0"
        rpy="0 0 0" />
      <geometry>
        <mesh
          filename="meshes/right_hand_pinky_tip.STL" />
      </geometry>
    </collision>
  </link>
  <joint
    name="right_hand_pinky_joint3"
    type="fixed">
    <origin
      xyz="0 0 -0.0422482924089404"
      rpy="0 0 0" />
    <parent
      link="right_hand_pinky_link2" />
    <child
      link="right_hand_pinky_tip" />
    <axis
      xyz="0 0 0" />
    <dynamics
      damping="0"
      friction="0" />
  </joint>
</robot>
